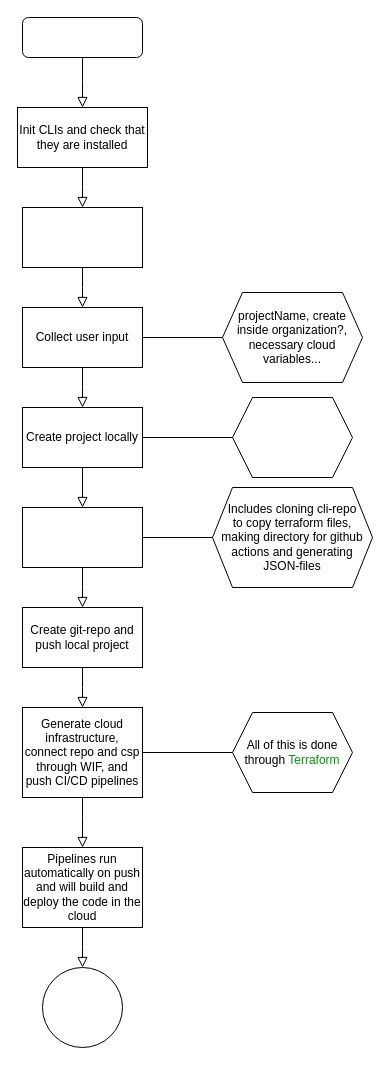
Some shapes in this 390 by 1065 pixel diagram are drawn without their labels. The shapes that lost their labels are listed below. From the top down, each one's centre as x and y in pixels, then its label:
the point at 82,37: $ aboveit-cli init
the point at 82,237: Check that the user is logged in to necessary services
the point at 292,437: From template. Choose an option or specify your own template
the point at 82,537: Add and edit files and directories in local project
the point at 82,1007: CLI done
